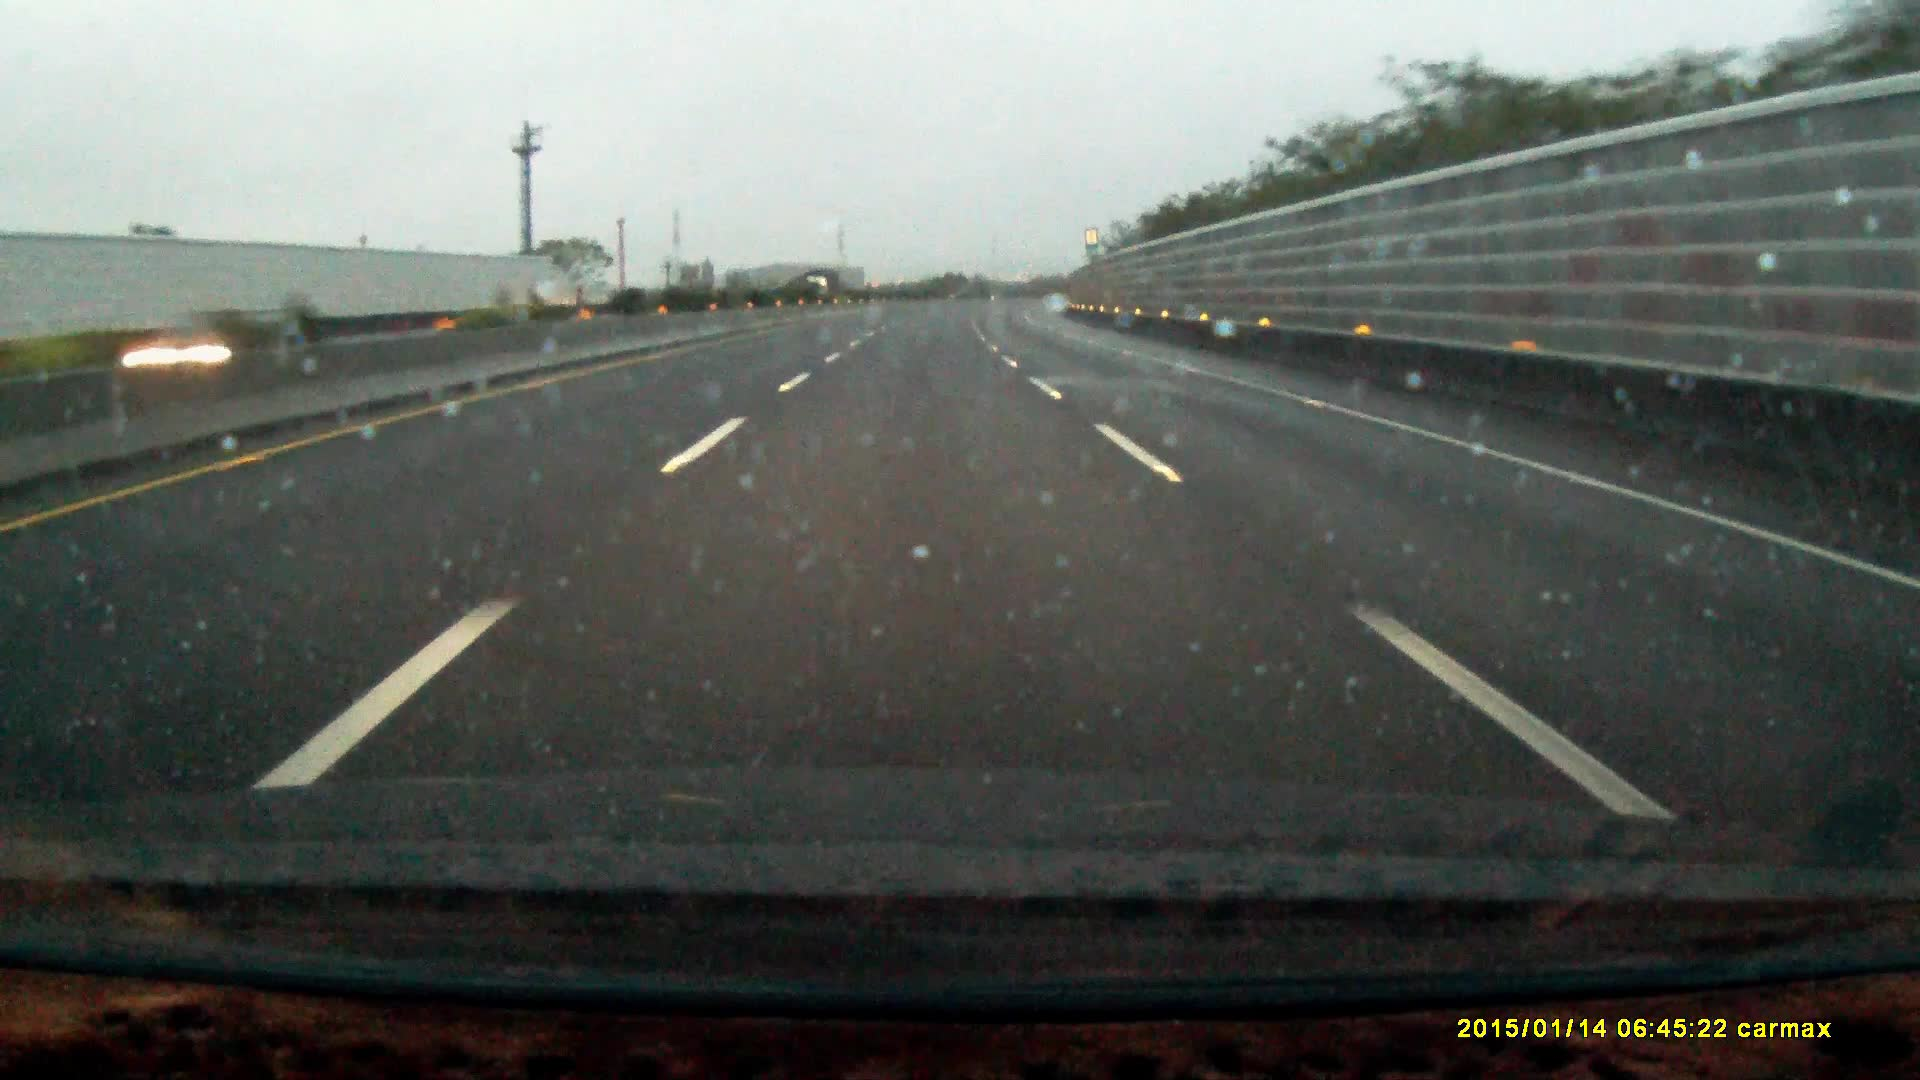vehicle: (111, 305, 309, 411), (804, 268, 841, 303)
